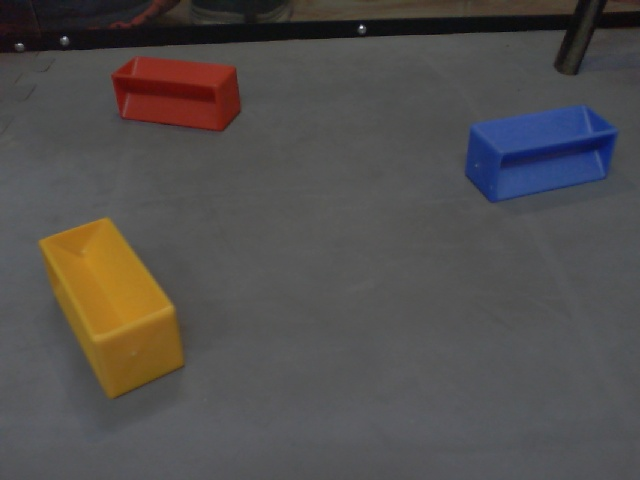BlueSample: (466, 106, 620, 201)
RedSample: (108, 53, 242, 134)
YellowSample: (34, 214, 187, 405)
